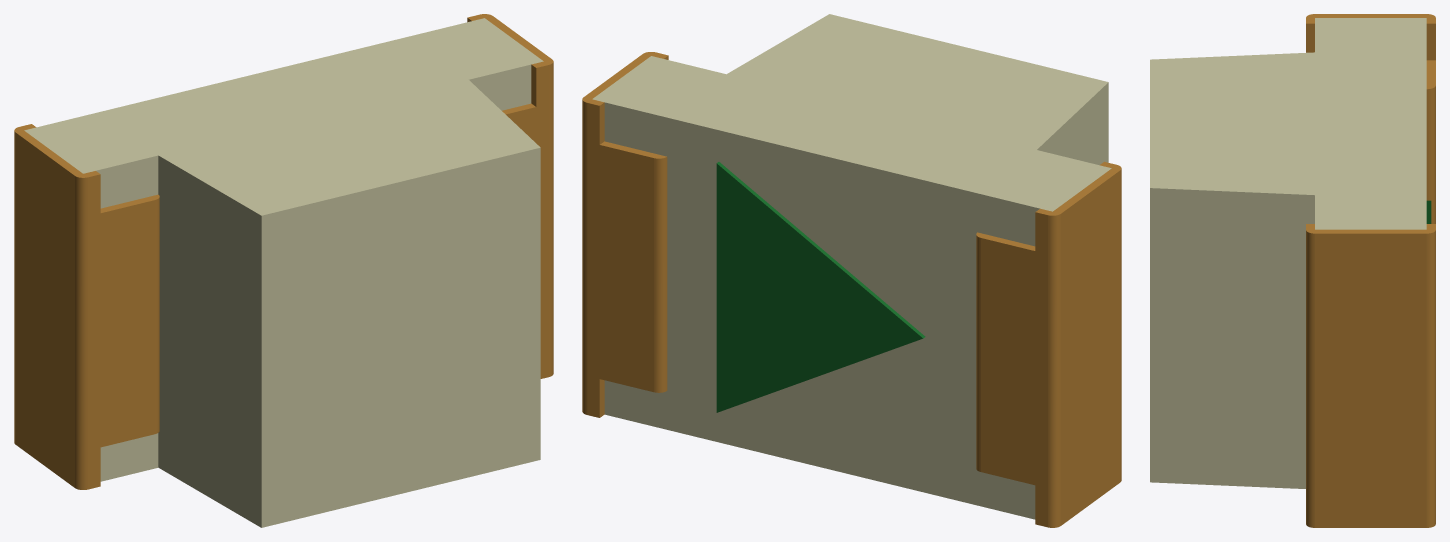
The model's file is led_0805_2012metric.glb.
3 renders of one model, left to right at view 1: azimuth 30°, elevation 25°; view 2: azimuth 150°, elevation 25°; view 3: azimuth 270°, elevation 25°, orthographic. The views are drawn at different scales.
Visible parts, largest first — view 1: LED_0805_2012Metric; view 2: LED_0805_2012Metric; view 3: LED_0805_2012Metric.
Boxes of the visible parts, x1,y1,x2,y2 form: LED_0805_2012Metric: (14,14,553,527); LED_0805_2012Metric: (582,14,1121,527); LED_0805_2012Metric: (1150,14,1435,527).
Bounding box in the file's own units: 2 × 1.25 × 1.1.
